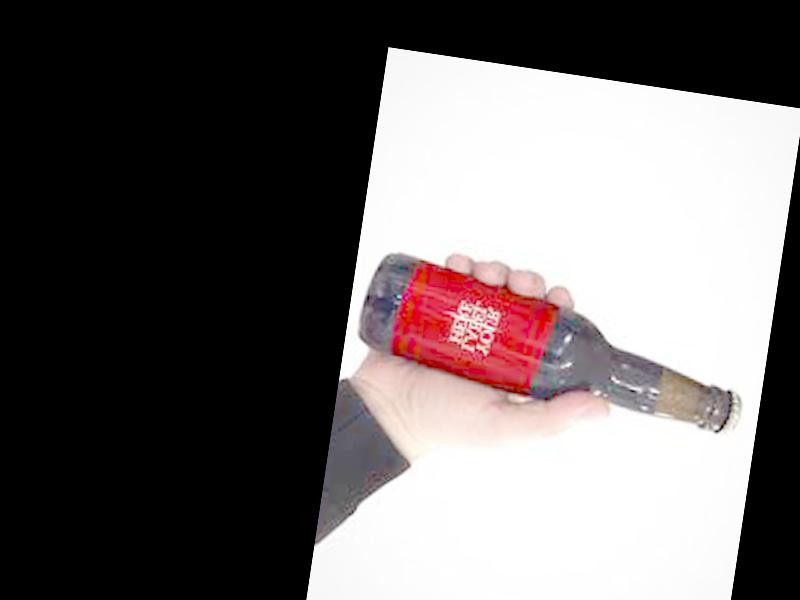Beer: (351, 247, 759, 439)
